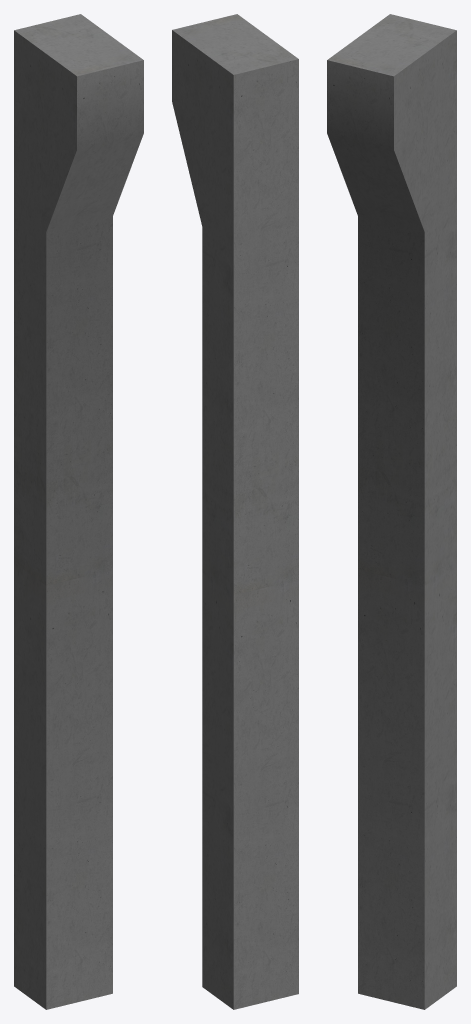
Rendered from WareBig_Column1.FBX.
The picture shows the model from 3 angles, left to right: view 1: azimuth 30°, elevation 25°; view 2: azimuth 210°, elevation 25°; view 3: azimuth 330°, elevation 25°; orthographic projection. The views are drawn at different scales.
Parts seen in each view (by area): view 1: WareBig_Column1; view 2: WareBig_Column1; view 3: WareBig_Column1.
Boxes of the visible parts, x1,y1,x2,y2 form: WareBig_Column1: (14,14,143,1009); WareBig_Column1: (172,14,298,1009); WareBig_Column1: (327,14,456,1009).
Size of the model in its own units: 23.62 by 323 by 38.6.
